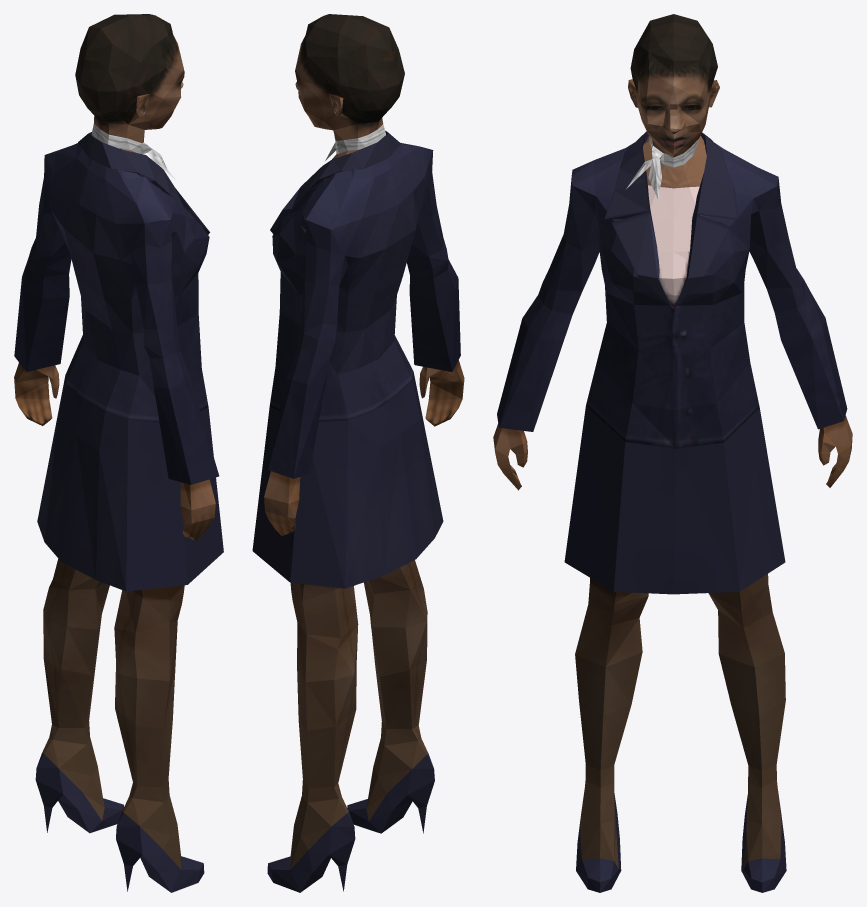
File: wfystew.obj
The picture shows the model from 3 angles, left to right: view 1: azimuth 30°, elevation 25°; view 2: azimuth 150°, elevation 25°; view 3: azimuth 270°, elevation 25°; orthographic projection. The views are drawn at different scales.
Visible parts, largest first — view 1: _Pelvis; view 2: _Pelvis; view 3: _Pelvis.
Part boxes in pixels (x1=…): _Pelvis: x1=14, y1=14, x2=223, y2=892; _Pelvis: x1=252, y1=14, x2=464, y2=892; _Pelvis: x1=493, y1=14, x2=852, y2=892.
Size of the model in its own units: 0.303 by 1.8 by 0.6856.
Materials: 1 (1 with a texture image).
